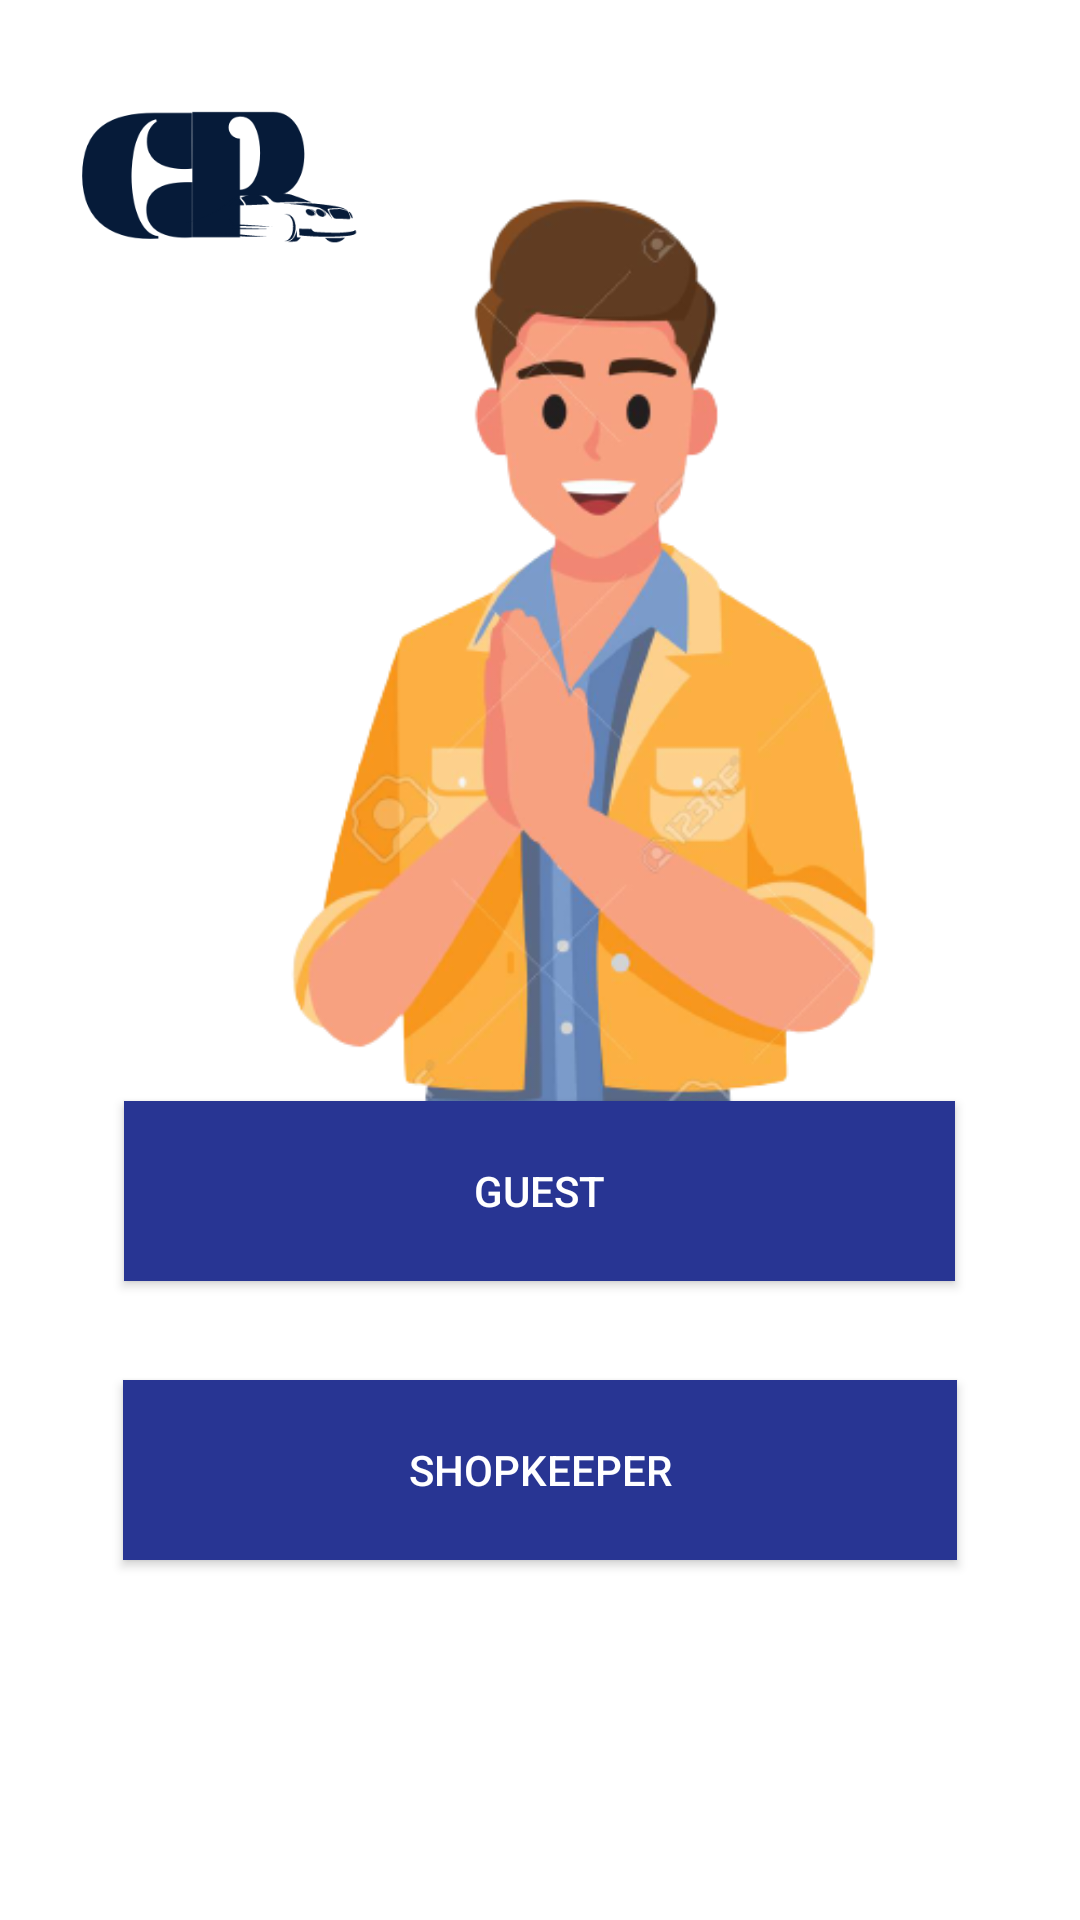

Screen size 1080 x 1920. Icon name, then its box in pixels as (x1, y1, x2, y2):
car parking: (82, 111, 357, 243)
